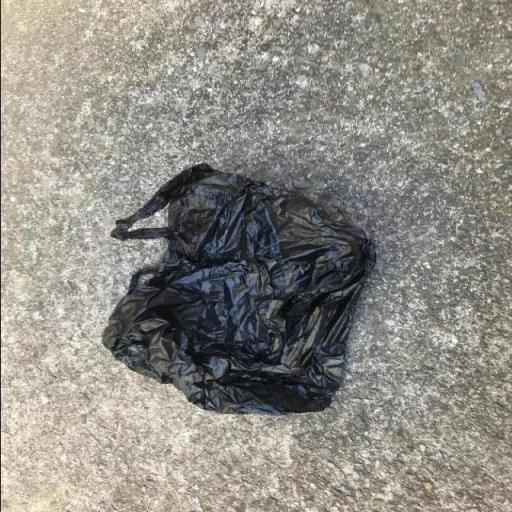plastic-bag: (98, 160, 378, 417)
